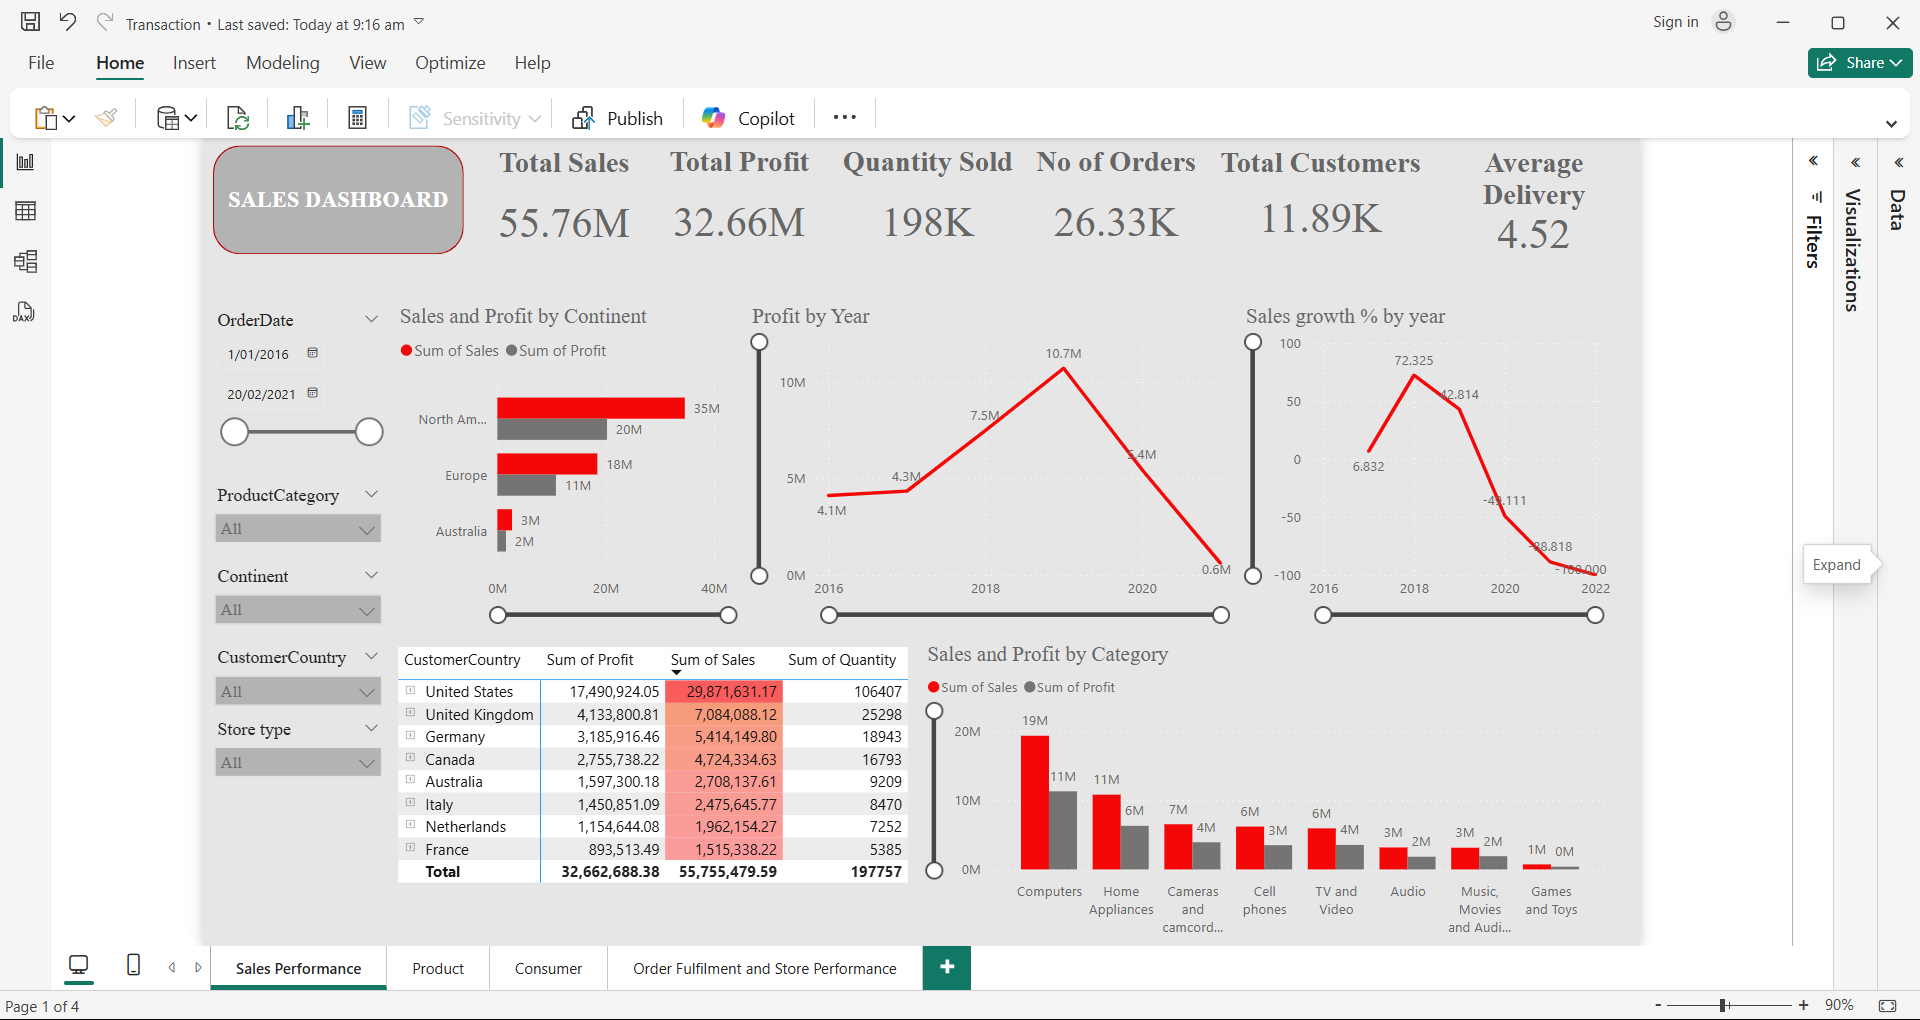

What the dashboard file says about the page in this screenshot:
{"tool":"powerbi","page":{"name":"Sales Performance","canvas":[1280,720],"ordinal":0},"visuals":[{"type":"clusteredBarChart","title":"Sales and Profit by Continent","fields":{"Category":["Customers.CustomerContinent"],"Y":["Sum(Transactions.Sales)","Sum(Transactions.Profit)"]},"box":[170,148.6,314.3,287.1],"z":0},{"type":"clusteredColumnChart","title":"Sales and Profit by Category","fields":{"Category":["Category.ProductCategory"],"Y":["Sum(Transactions.Sales)","Sum(Transactions.Profit)"]},"box":[169.7,449.4,643.5,270.2],"z":1000},{"type":"lineChart","title":"Profit by Year","fields":{"Y":["Transactions.Total_Profit"],"Category":["DateTable.year"]},"box":[484.3,148.6,440,287.1],"z":2000},{"type":"slicer","fields":{"Values":["Order.OrderDate"]},"box":[0,116.8,169.7,162.9],"z":3000},{"type":"card","title":"Total Customers","fields":{"Values":["Count(Order.CustomerID)"]},"box":[897.4,0,194.1,116.8],"z":4000},{"type":"lineChart","fields":{"Y":["OrderTable.Sales growth %"],"Category":["DateTable.year"]},"box":[924.3,148.6,334.3,287.1],"z":5000},{"type":"card","title":"Average Delivery","fields":{"Values":["OrderTable.OrderProcessingTime"]},"box":[1091.6,0,188.7,116.8],"z":6000},{"type":"card","title":"No of Orders","fields":{"Values":["Count(Order.OrderNumber)"]},"box":[729.1,0,168.4,116.8],"z":7000},{"type":"card","title":"Quantity Sold","fields":{"Values":["Sum(Transactions.Quantity)"]},"box":[556.6,0,177.9,116.8],"z":8000},{"type":"card","title":"Total Sales","fields":{"Values":["Transactions.Total_Sales"]},"box":[232.2,0,167,116.8],"z":9000},{"type":"card","title":"Total Profit","fields":{"Values":["Transactions.Total_Profit"]},"box":[399.2,0,157.5,116.8],"z":10000},{"type":"pivotTable","fields":{"Rows":["Customers.CustomerCountry","Customers.CustomerState","Customers.CustomerCity"],"Values":["Sum(Transactions.Profit)","Sum(Transactions.Sales)","Sum(Transactions.Quantity)"]},"box":[813.2,449.4,467,270.2],"z":11000},{"type":"slicer","fields":{"Values":["Customers.CustomerContinent"]},"box":[0,351.6,169.7,73.3],"z":12000},{"type":"slicer","fields":{"Values":["Category.ProductCategory"]},"box":[0,279.7,169.7,72],"z":13000},{"type":"slicer","fields":{"Values":["Stores.store type"]},"box":[0,424.9,169.7,73.3],"z":14000}]}

Visuals, with their boxes on the page's 1280x720 design canvas (x1, y1, x2, y2). These are canvas units, not pixel positions in the 1920x1020 screenshot, which may show the page scaled, cropped or inside an application window:
"Sales and Profit by Continent" clusteredBarChart: left=170, top=149, right=484, bottom=436
"Sales and Profit by Category" clusteredColumnChart: left=170, top=449, right=813, bottom=720
"Profit by Year" lineChart: left=484, top=149, right=924, bottom=436
slicer - Order.OrderDate: left=0, top=117, right=170, bottom=280
"Total Customers" card: left=897, top=0, right=1092, bottom=117
lineChart - OrderTable.Sales growth % x DateTable.year: left=924, top=149, right=1259, bottom=436
"Average Delivery" card: left=1092, top=0, right=1280, bottom=117
"No of Orders" card: left=729, top=0, right=898, bottom=117
"Quantity Sold" card: left=557, top=0, right=734, bottom=117
"Total Sales" card: left=232, top=0, right=399, bottom=117
"Total Profit" card: left=399, top=0, right=557, bottom=117
pivotTable - Customers.CustomerCountry x Customers.CustomerState: left=813, top=449, right=1280, bottom=720
slicer - Customers.CustomerContinent: left=0, top=352, right=170, bottom=425
slicer - Category.ProductCategory: left=0, top=280, right=170, bottom=352
slicer - Stores.store type: left=0, top=425, right=170, bottom=498
